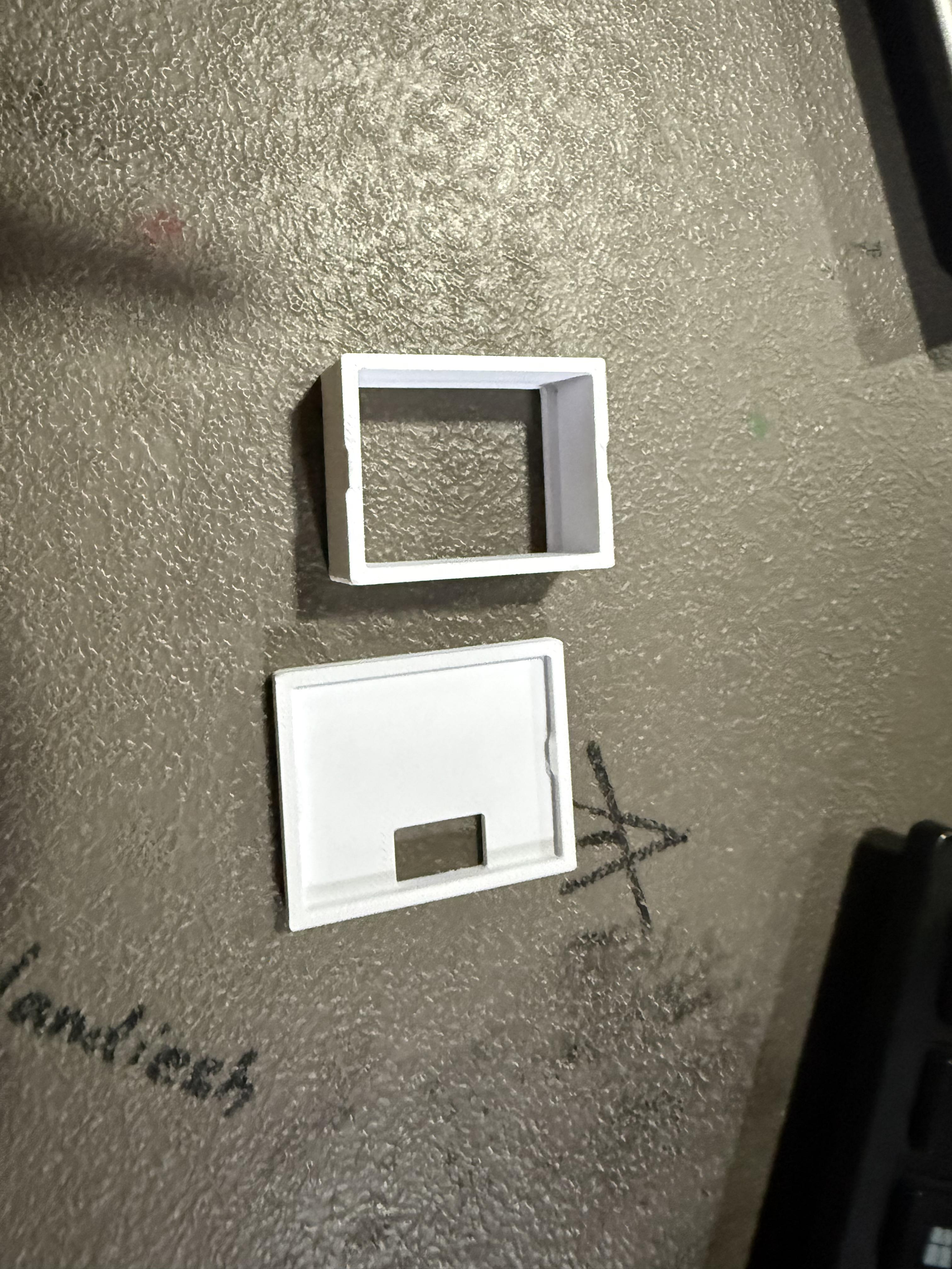enclosure: (273, 637, 578, 932), (319, 354, 615, 586)
